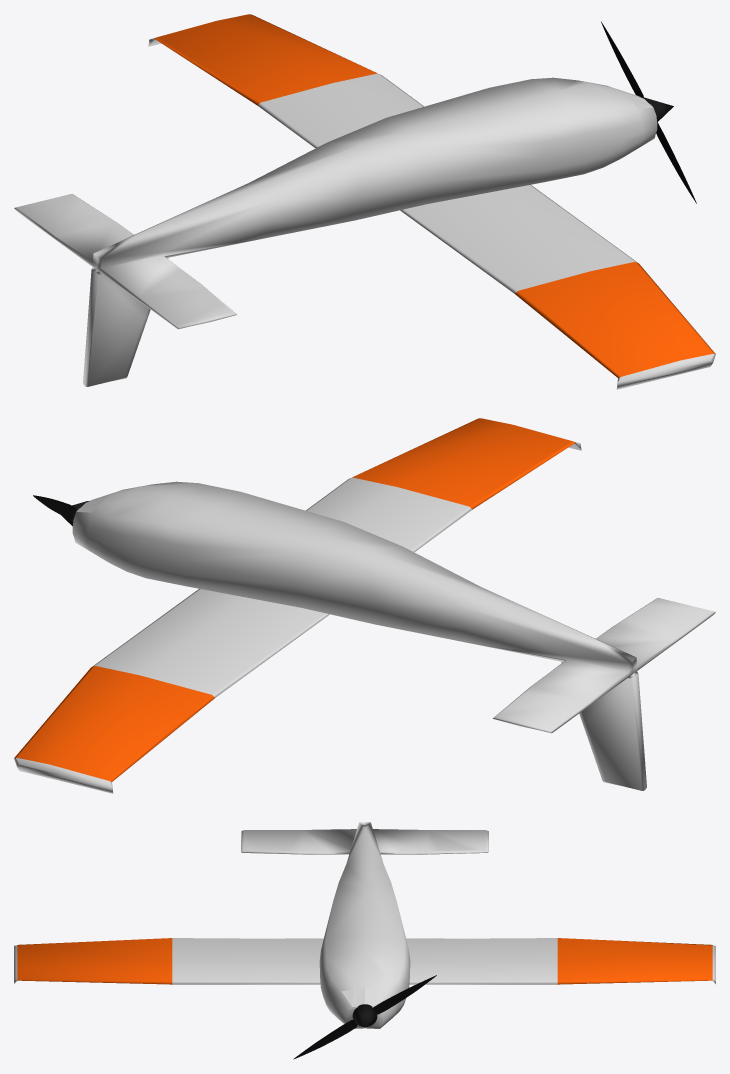
The model's file is miniplane_orange.obj.
3 views of the same model, one above another, from view 1: azimuth 30°, elevation 25°; view 2: azimuth 150°, elevation 25°; view 3: azimuth 270°, elevation 25° (orthographic). The views are drawn at different scales.
Visible parts, largest first — view 1: Sirius_Cube, Propeller_Cube.001; view 2: Sirius_Cube; view 3: Sirius_Cube, Propeller_Cube.001.
Boxes of the visible parts, left/top/right/bottom form: Sirius_Cube: left=14, top=14, right=715, bottom=389; Propeller_Cube.001: left=601, top=21, right=696, bottom=203; Sirius_Cube: left=14, top=418, right=715, bottom=793; Sirius_Cube: left=14, top=822, right=715, bottom=1028; Propeller_Cube.001: left=293, top=975, right=436, bottom=1059.
Size of the model in its own units: 1.03 by 0.3247 by 1.42.
